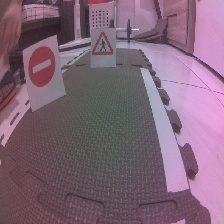blocked: (26, 44, 58, 90)
pedestrian: (92, 26, 113, 60)
